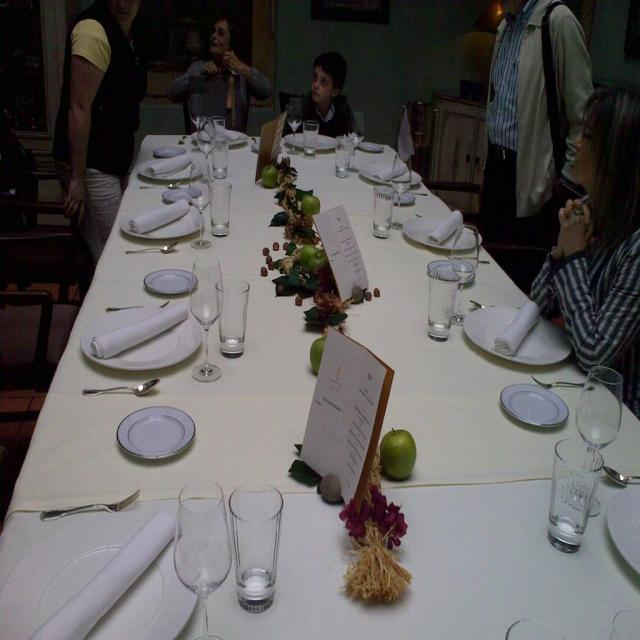non-organic waste: (132, 250, 217, 332), (501, 372, 558, 483), (127, 407, 206, 480)
